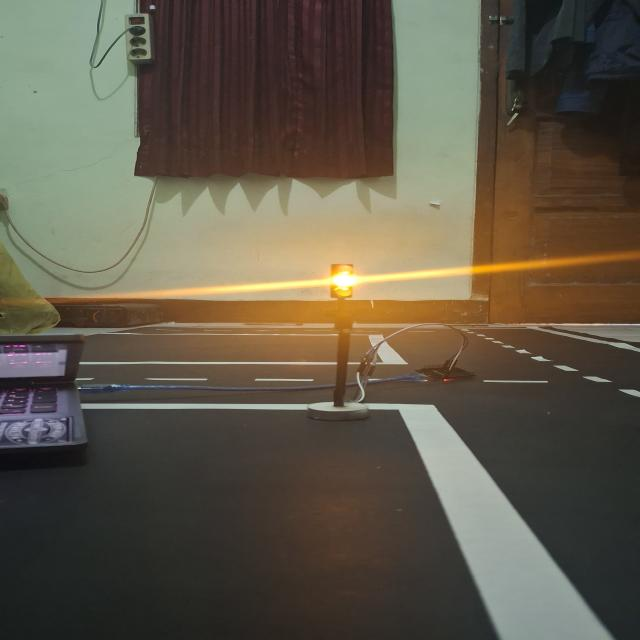Lampu Kuning: (329, 262, 356, 300)
